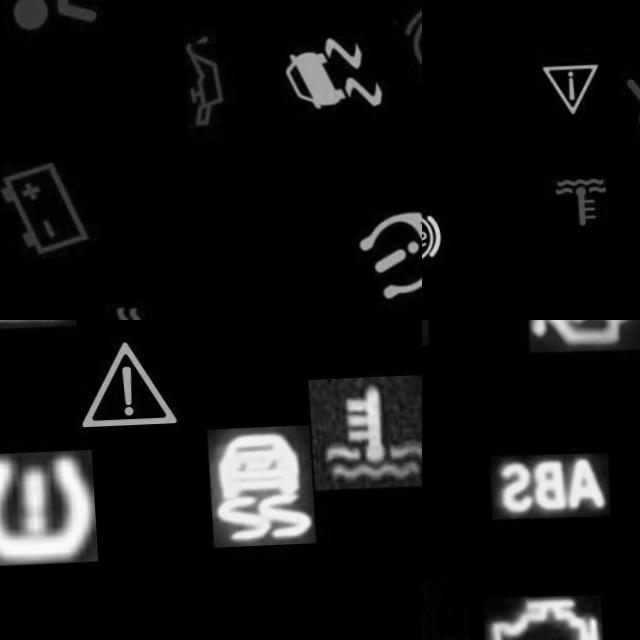Central Warning lamp: (61, 325, 185, 447)
Engine cooling system: (304, 379, 422, 494)
High Engine Coolant Temperature: (539, 171, 611, 242)
